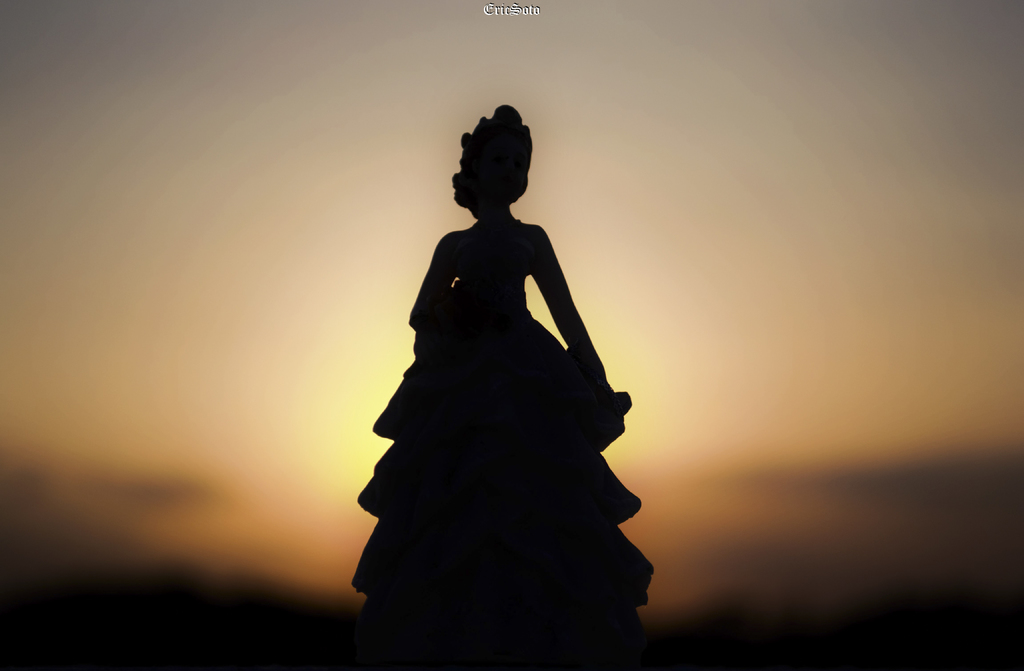face: (469, 134, 530, 197)
